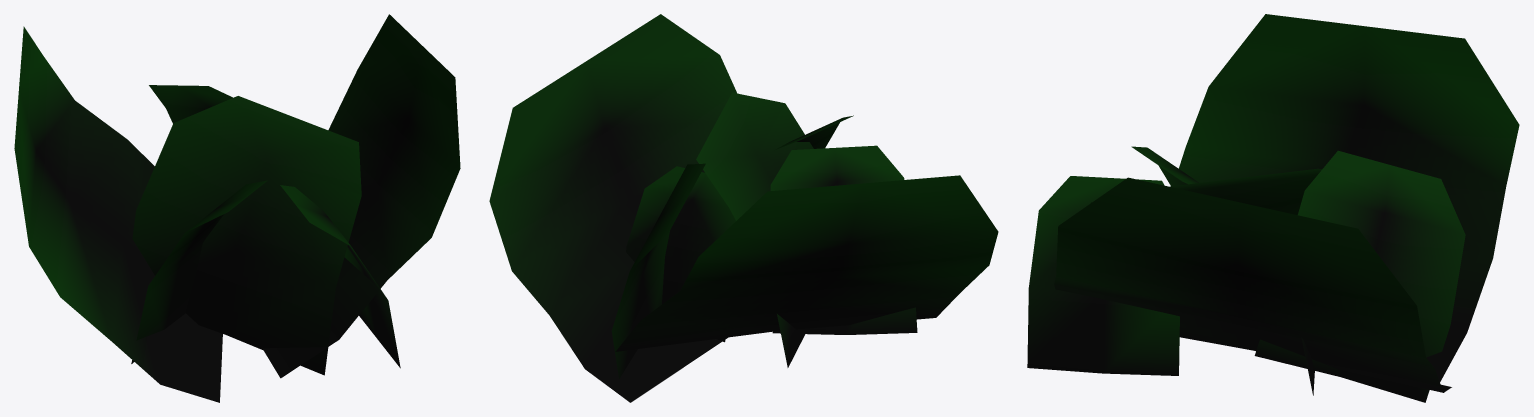
Rendered from GenericGrasShortB_afsTREE_xlp.fbx.
The picture shows the model from 3 angles, left to right: view 1: azimuth 30°, elevation 25°; view 2: azimuth 150°, elevation 25°; view 3: azimuth 270°, elevation 25°; orthographic projection. The views are drawn at different scales.
Visible parts, largest first — view 1: GenericGrasShortB_Leaf_xt02_xw002.002; view 2: GenericGrasShortB_Leaf_xt02_xw002.002; view 3: GenericGrasShortB_Leaf_xt02_xw002.002.
Part boxes in pixels (box(x1,y1,x2,y2)): GenericGrasShortB_Leaf_xt02_xw002.002: box(14, 14, 460, 402); GenericGrasShortB_Leaf_xt02_xw002.002: box(489, 14, 998, 402); GenericGrasShortB_Leaf_xt02_xw002.002: box(1027, 14, 1519, 402).
Bounding box in the file's own units: 0.7175 × 0.4191 × 0.6747.
